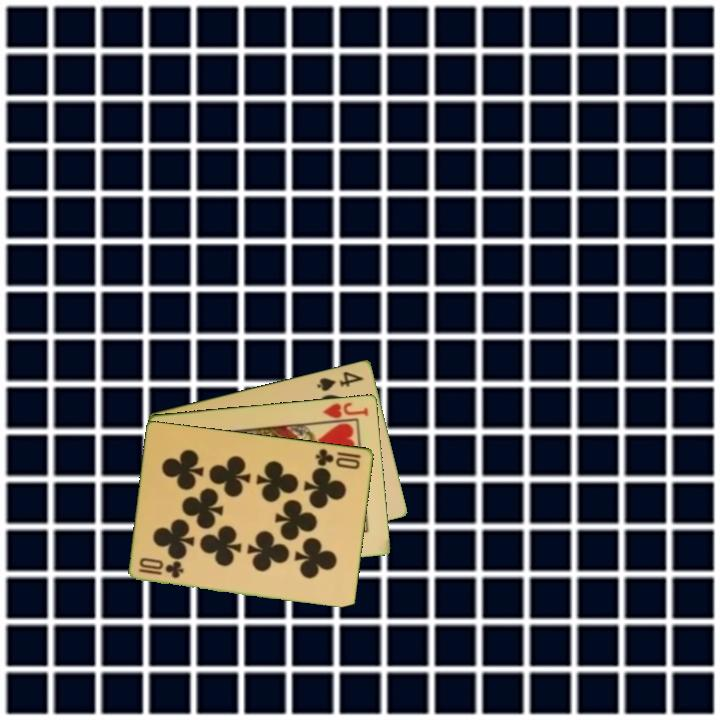10c: (312, 445, 364, 472), (135, 559, 187, 581)
4s: (313, 367, 367, 394)
Jh: (319, 398, 371, 421)
